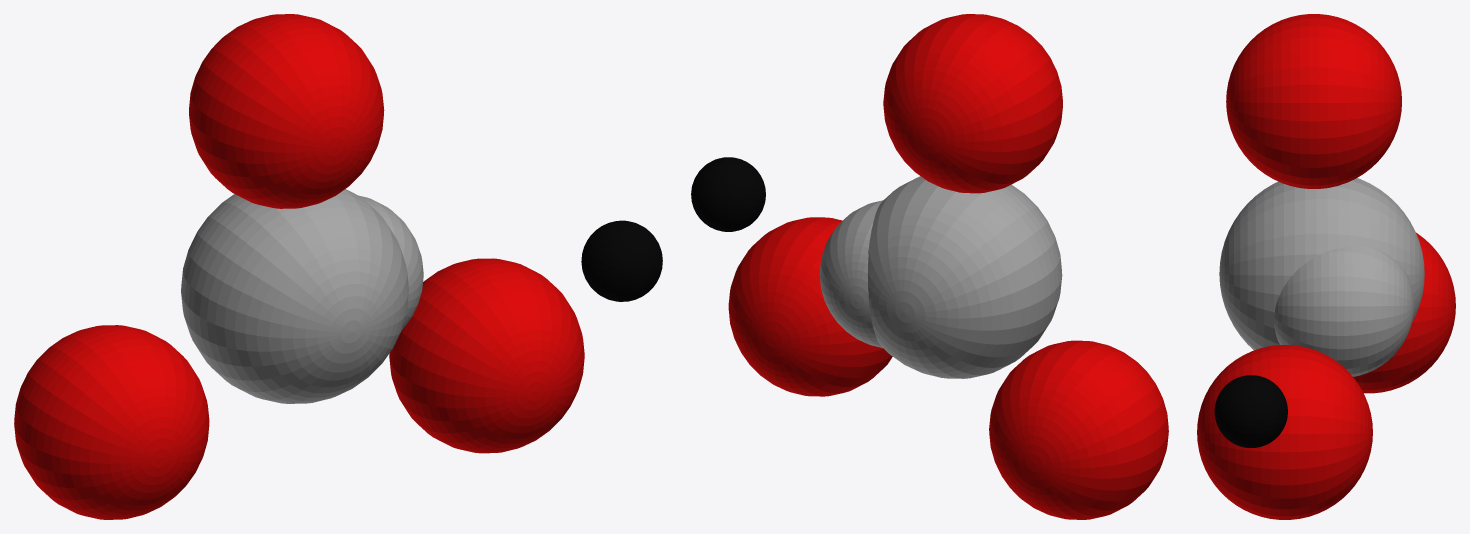
File: Magnesium Carbonate.glb
The picture shows the model from 3 angles, left to right: view 1: azimuth 30°, elevation 25°; view 2: azimuth 150°, elevation 25°; view 3: azimuth 270°, elevation 25°; orthographic projection. The views are drawn at different scales.
Visible parts, largest first — view 1: world; view 2: world; view 3: world.
Boxes of the visible parts, x1=… form: world: x1=14, y1=14, x2=662, y2=519; world: x1=691, y1=14, x2=1168, y2=519; world: x1=1197, y1=14, x2=1455, y2=519.
Bounding box in the file's own units: 4.01 × 3.21 × 1.77.
